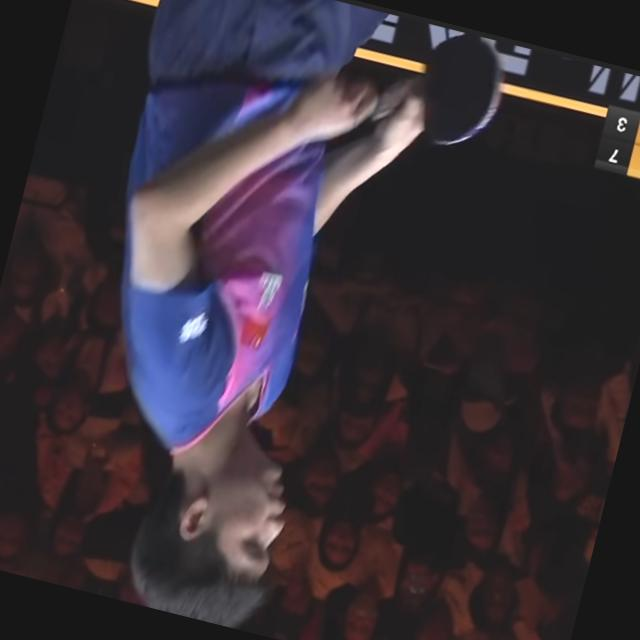TT Racket: (413, 23, 509, 164)
